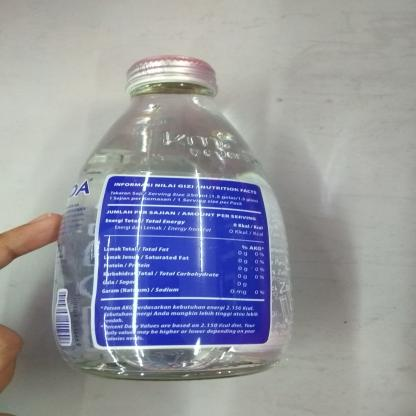glass: (41, 50, 291, 381)
